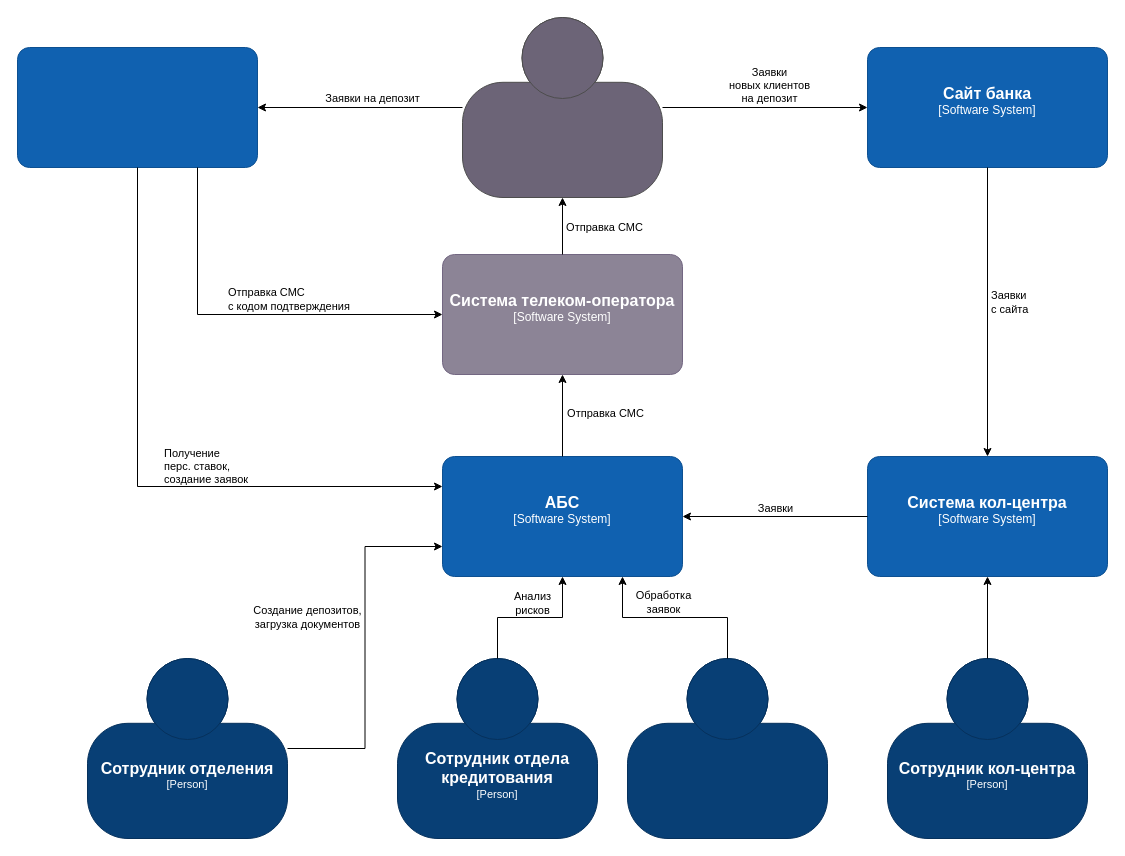
The diagram is 1125 pixels wide and 856 high, and some of its shapes have lost their labels. The shapes that lost their labels are listed below. From the top down, each one's centre as x and y in pixels, then its label:
At (137,107): "Интернет-банк [Software System]".
At (562,107): "Клиент [Person]".
At (727,748): "Менеджер депозитов [Person]".
